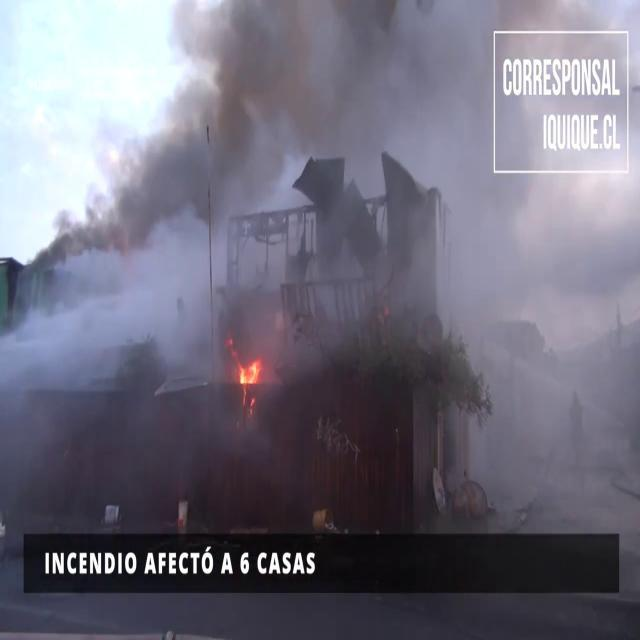Fire: (233, 350, 264, 395)
Smoke: (7, 1, 471, 368), (432, 172, 634, 528)
